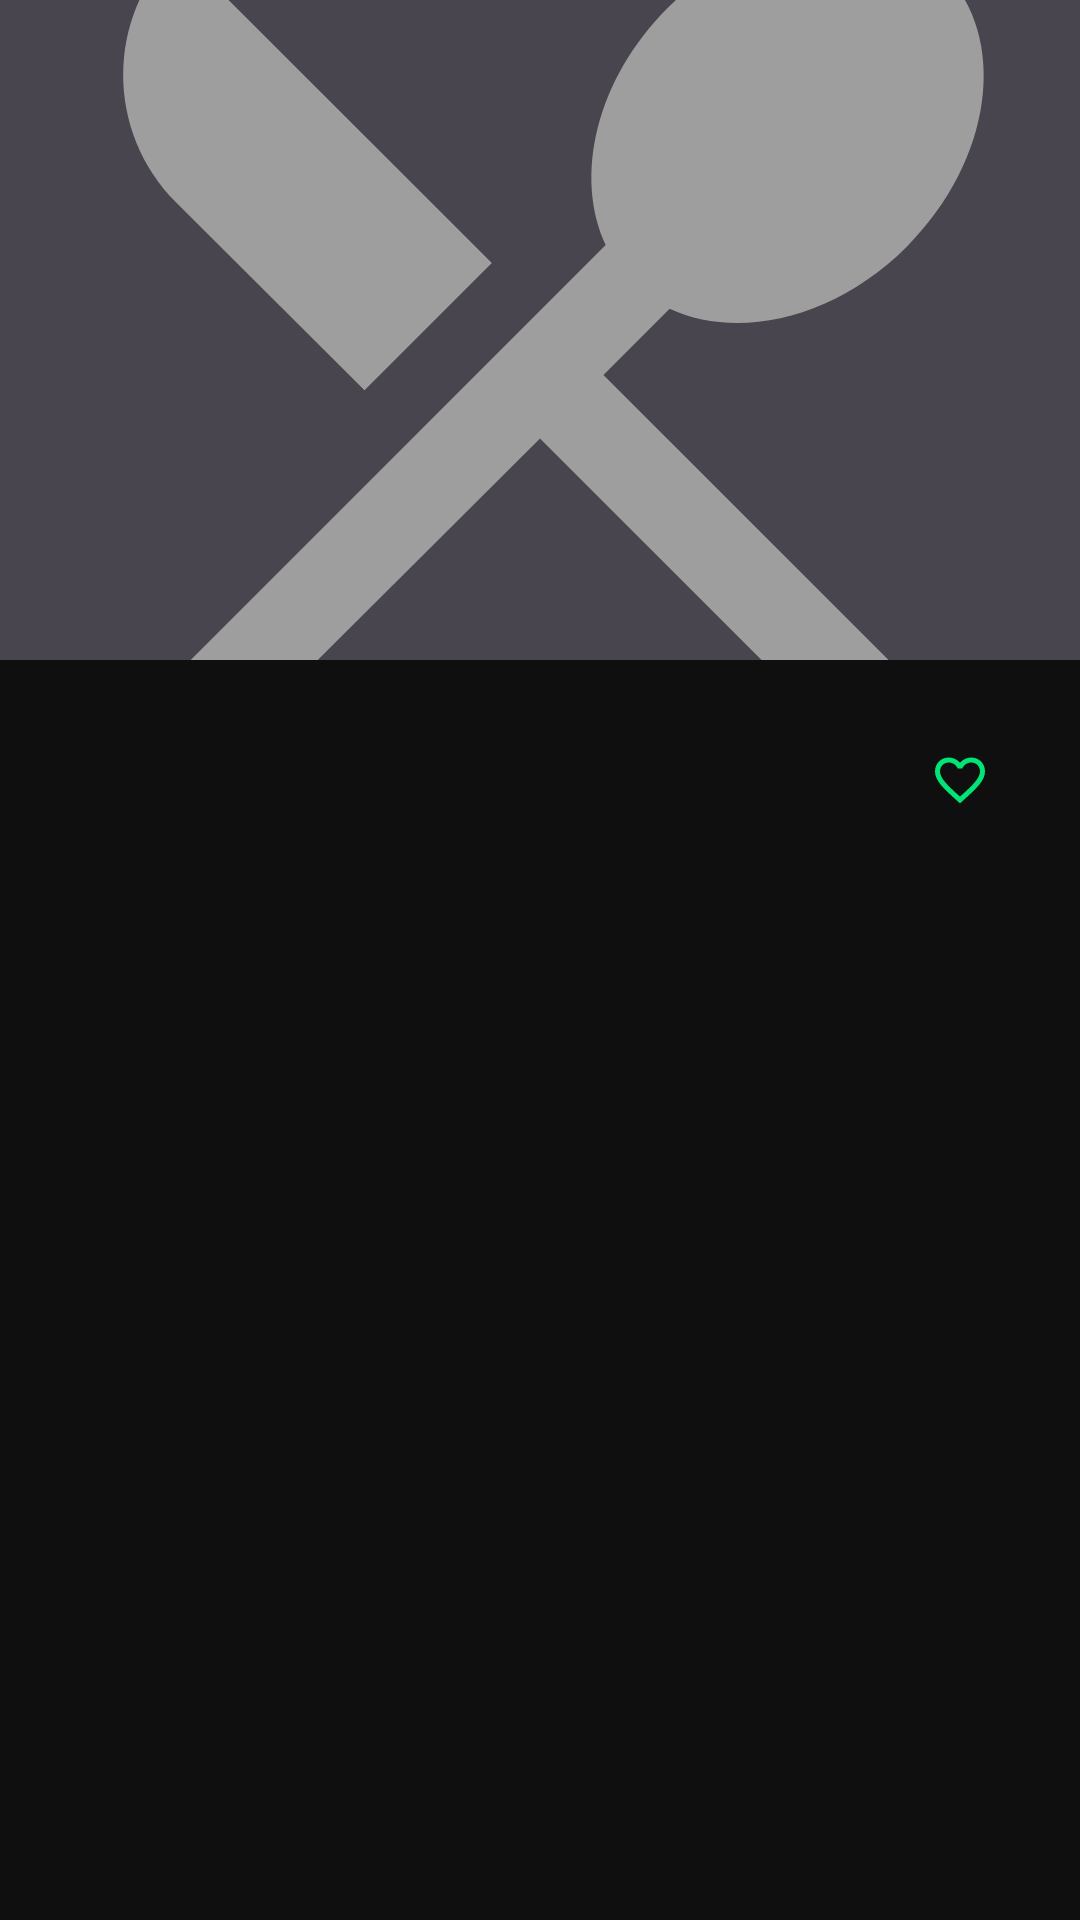

Screen size 1080x1920. Icon name, then its center in pixels as point (x, y):
favorite border: point (960, 780)
